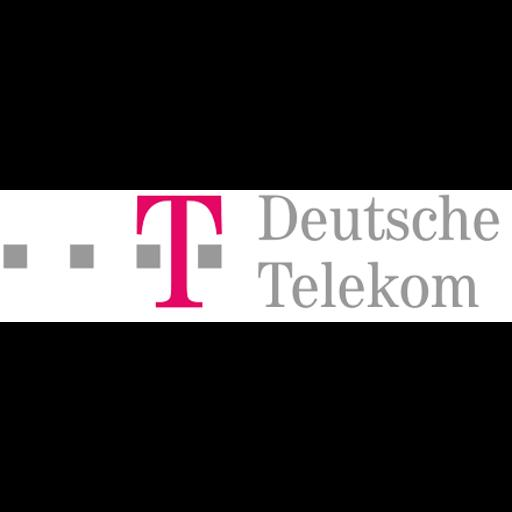Deutsche Telekom: (0, 190, 512, 322)
